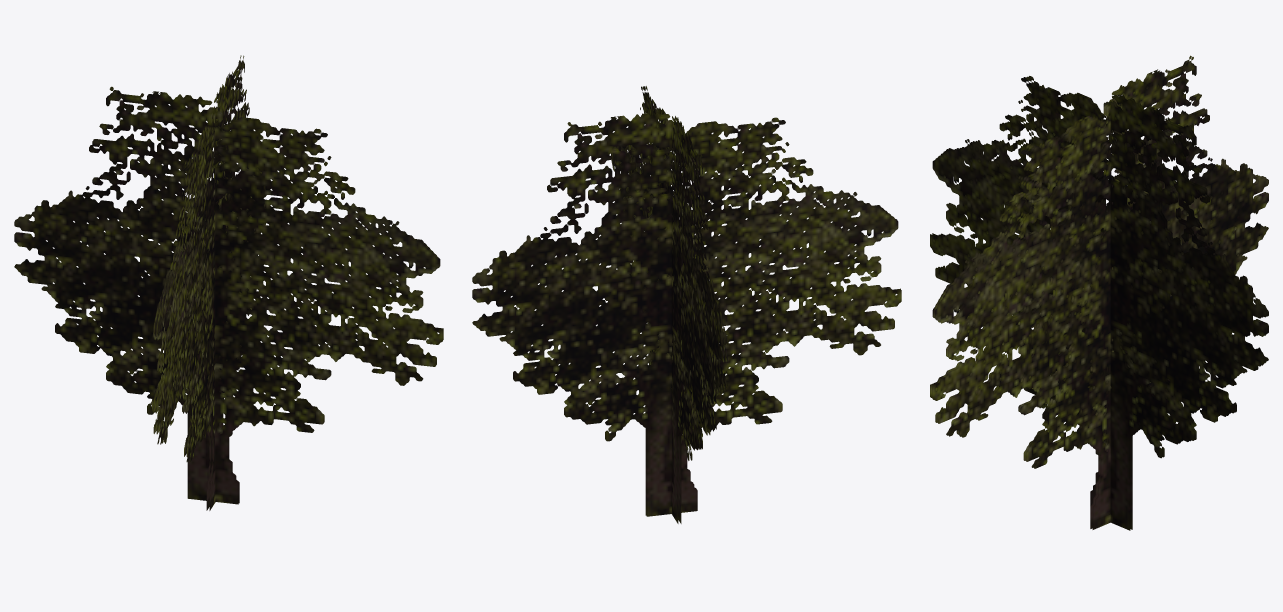
The model's file is tree102.fbx.
3 renders of one model, left to right at view 1: azimuth 30°, elevation 25°; view 2: azimuth 150°, elevation 25°; view 3: azimuth 270°, elevation 25°, orthographic. The views are drawn at different scales.
Visible parts, largest first — view 1: tree102; view 2: tree102; view 3: tree102.
Boxes of the visible parts, left/top/right/bottom form: tree102: left=14, top=55, right=443, bottom=510; tree102: left=472, top=86, right=901, bottom=523; tree102: left=930, top=55, right=1268, bottom=530.
Bounding box in the file's own units: 296 × 400 × 278.
1 material, 1 textured.
